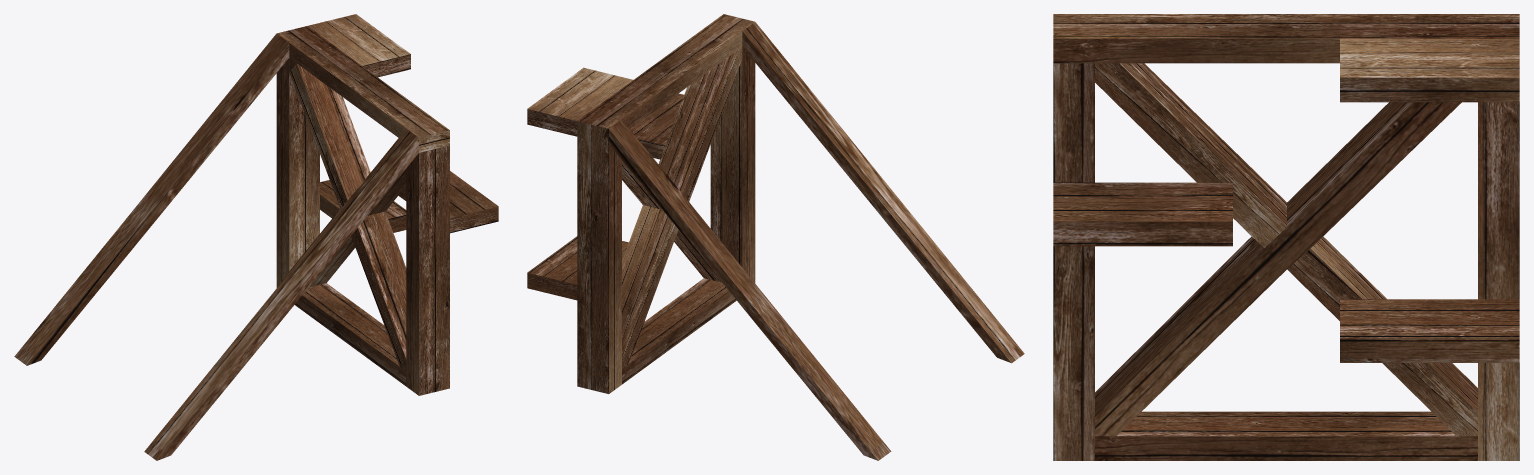
File: wood_Obstacle.fbx
The picture shows the model from 3 angles, left to right: view 1: azimuth 30°, elevation 25°; view 2: azimuth 150°, elevation 25°; view 3: azimuth 270°, elevation 25°; orthographic projection. The views are drawn at different scales.
Parts seen in each view (by area): view 1: Wood_Obstacle; view 2: Wood_Obstacle; view 3: Wood_Obstacle.
Part boxes in pixels (bbox=[...]): Wood_Obstacle: bbox=[14, 14, 498, 460]; Wood_Obstacle: bbox=[527, 14, 1024, 460]; Wood_Obstacle: bbox=[1053, 14, 1519, 460].
Size of the model in its own units: 11.08 by 8.03 by 8.
